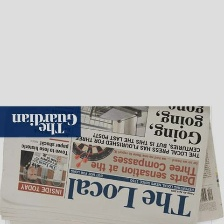news_paper: (0, 104, 223, 223)
